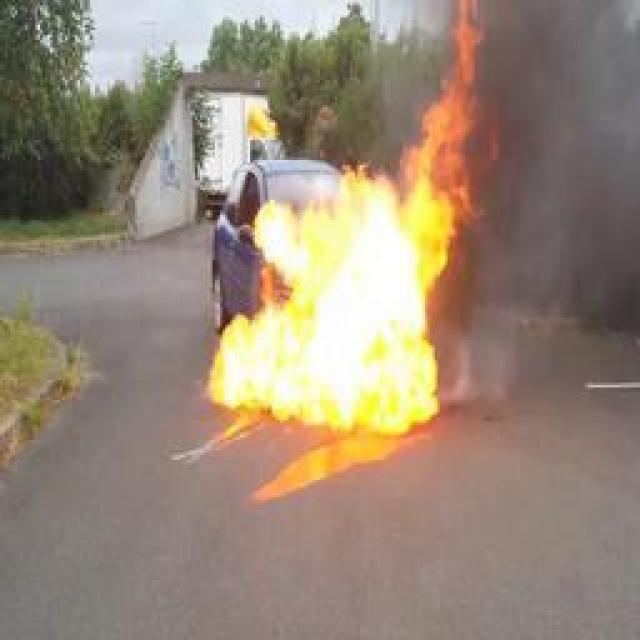Fire: (205, 0, 483, 438)
